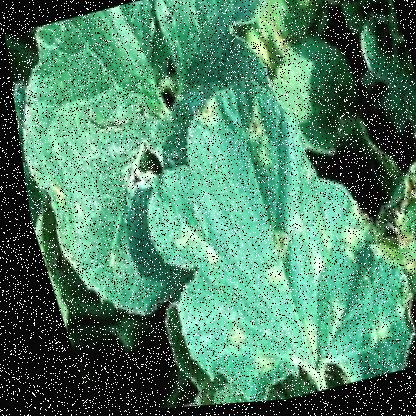Anthracnose: (195, 202, 391, 388), (171, 74, 305, 227)
